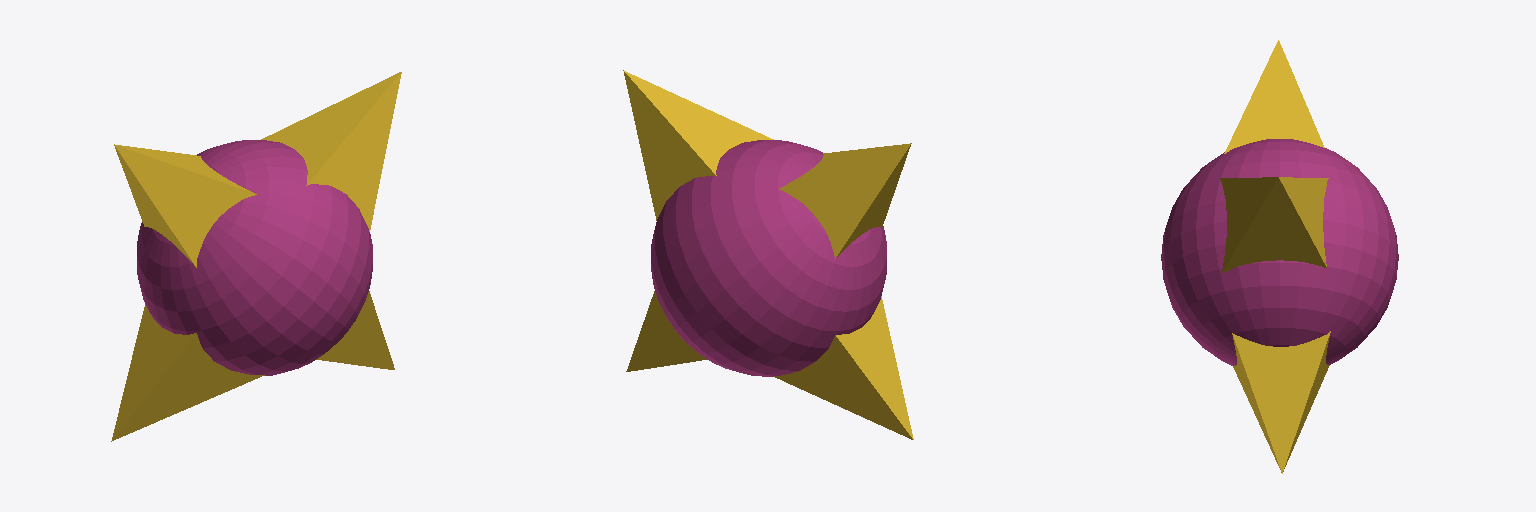
3 renders of one model, left to right at view 1: azimuth 30°, elevation 25°; view 2: azimuth 150°, elevation 25°; view 3: azimuth 270°, elevation 25°, orthographic.
Parts seen in each view (by area): view 1: 球; view 2: 球; view 3: 球.
Boxes of the visible parts, <box> form: 球: <box>111,72,401,441</box>; 球: <box>623,70,913,439</box>; 球: <box>1161,40,1398,473</box>.
Bounding box in the file's own units: 2.82 × 2.78 × 2.
1 materials, 1 textured.